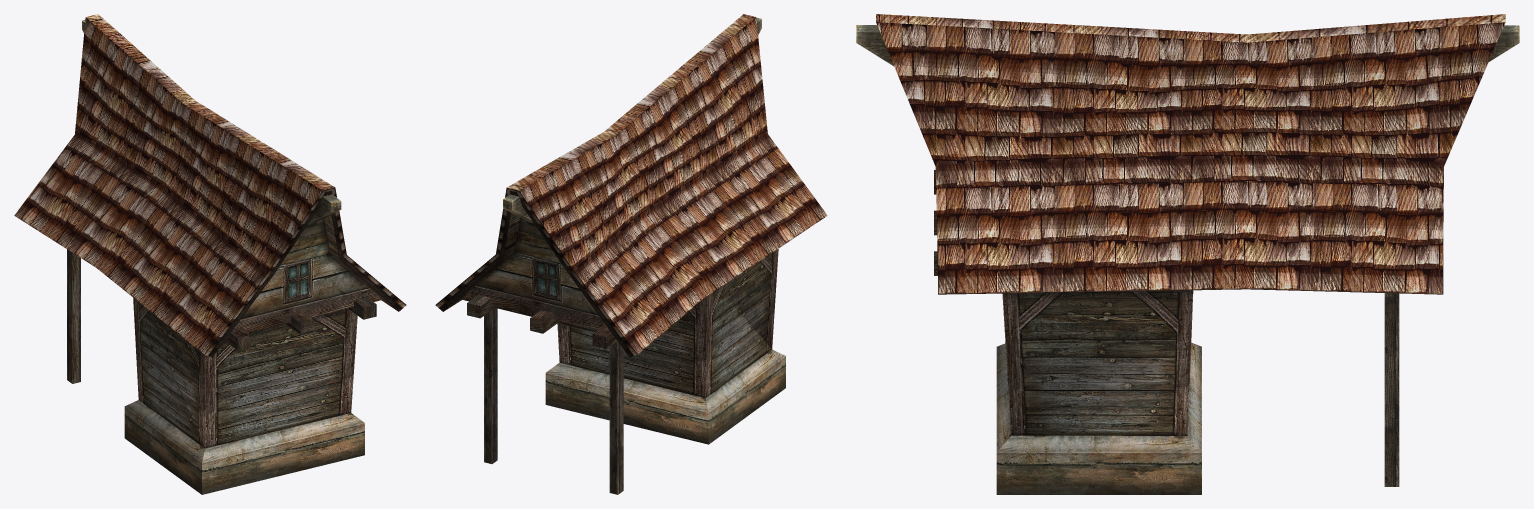
File: loc2_07.glb
3 views of the same model, side by side, from view 1: azimuth 30°, elevation 25°; view 2: azimuth 150°, elevation 25°; view 3: azimuth 270°, elevation 25° (orthographic). The views are drawn at different scales.
Parts seen in each view (by area): view 1: loc2_07-col; view 2: loc2_07-col; view 3: loc2_07-col.
Part boxes in pixels (x1=…): loc2_07-col: x1=14, y1=14, x2=406, y2=494; loc2_07-col: x1=435, y1=14, x2=827, y2=494; loc2_07-col: x1=856, y1=14, x2=1519, y2=494.
Bounding box in the file's own units: 7.26 × 10.92 × 15.48.
Materials: 6 (6 with a texture image).
